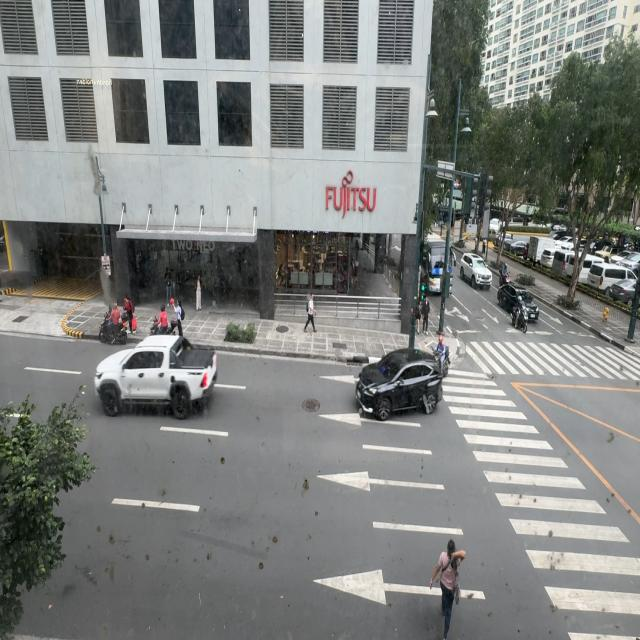jaywalking: (426, 531, 468, 629)
